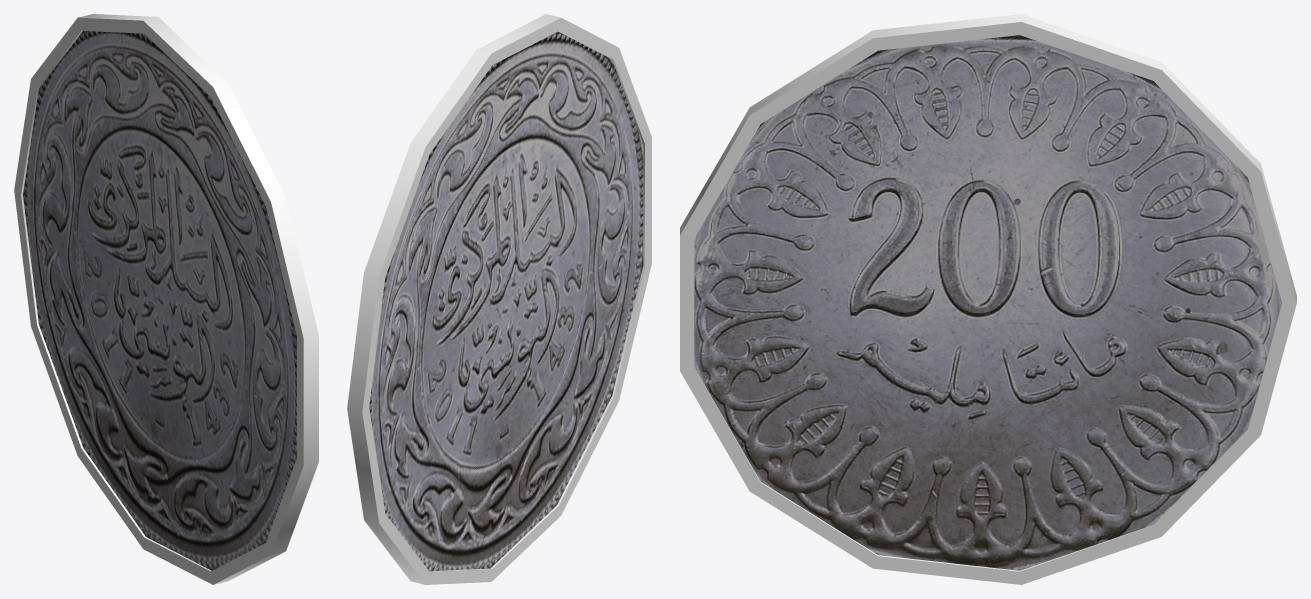
The picture shows the model from 3 angles, left to right: view 1: azimuth 30°, elevation 25°; view 2: azimuth 150°, elevation 25°; view 3: azimuth 270°, elevation 25°; orthographic projection. The views are drawn at different scales.
Parts seen in each view (by area): view 1: Cylinder.001; view 2: Cylinder.001; view 3: Cylinder.001.
Boxes of the visible parts, <box> form: Cylinder.001: <box>14,14,318,584</box>; Cylinder.001: <box>347,14,651,584</box>; Cylinder.001: <box>680,14,1296,584</box>.
Bounding box in the file's own units: 0.0597 × 1.99 × 1.97.
3 materials, 2 textured.
